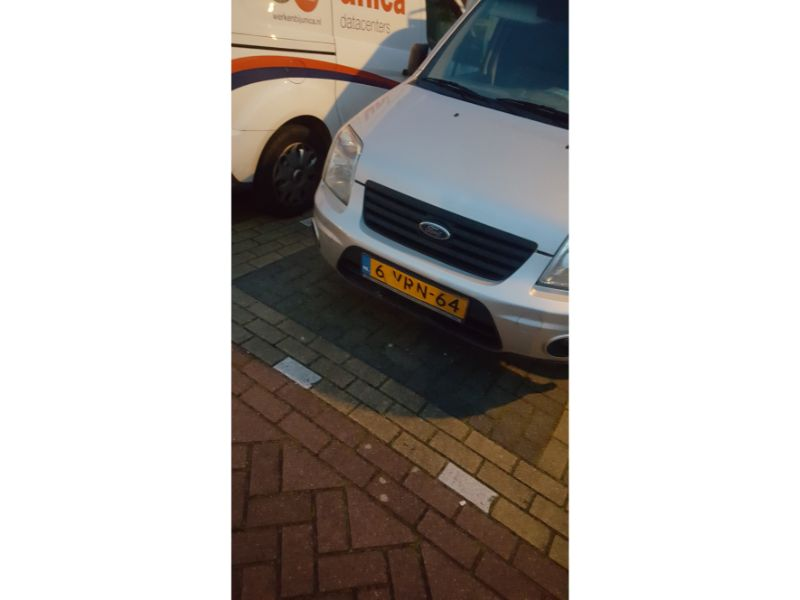kenteken: (353, 250, 473, 320)
